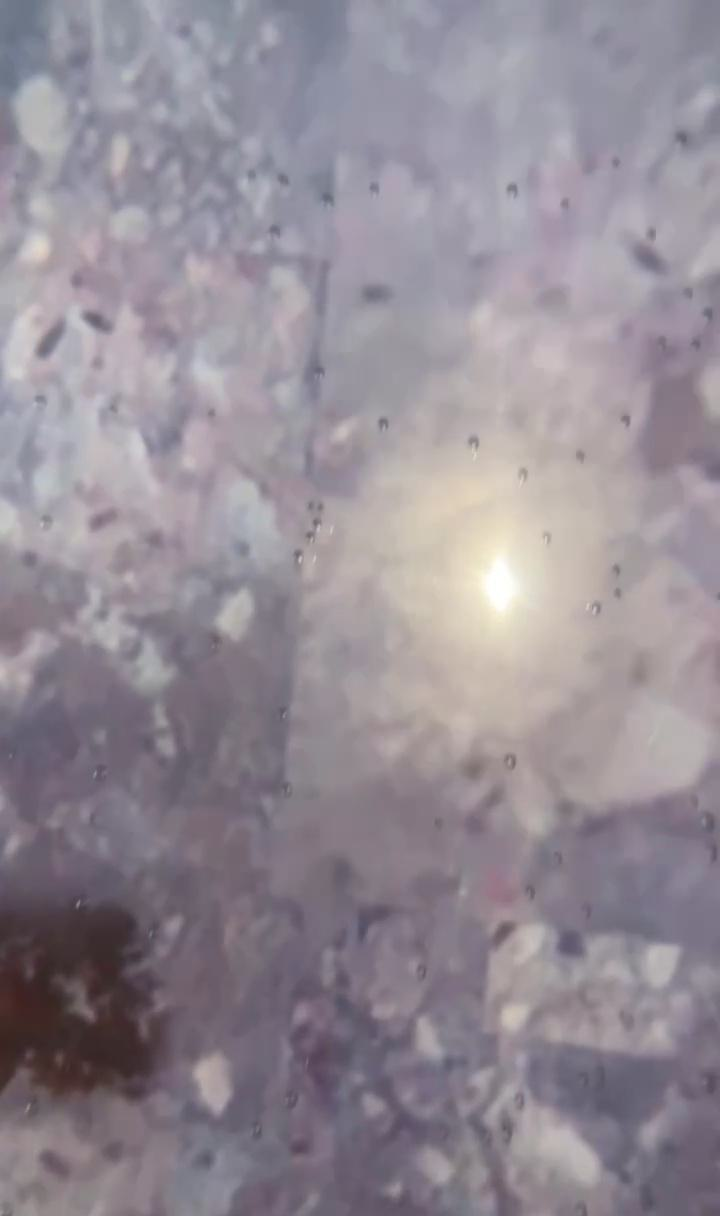Corrosion: (1, 901, 169, 1104)
